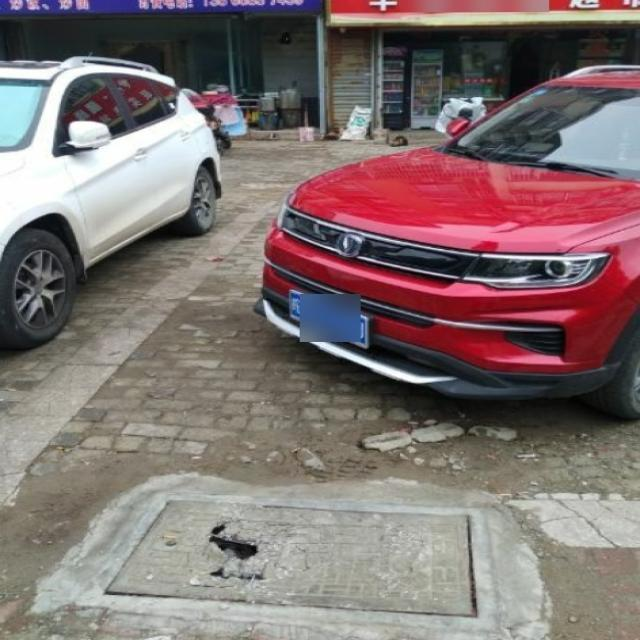Faulty: (98, 486, 490, 622)
